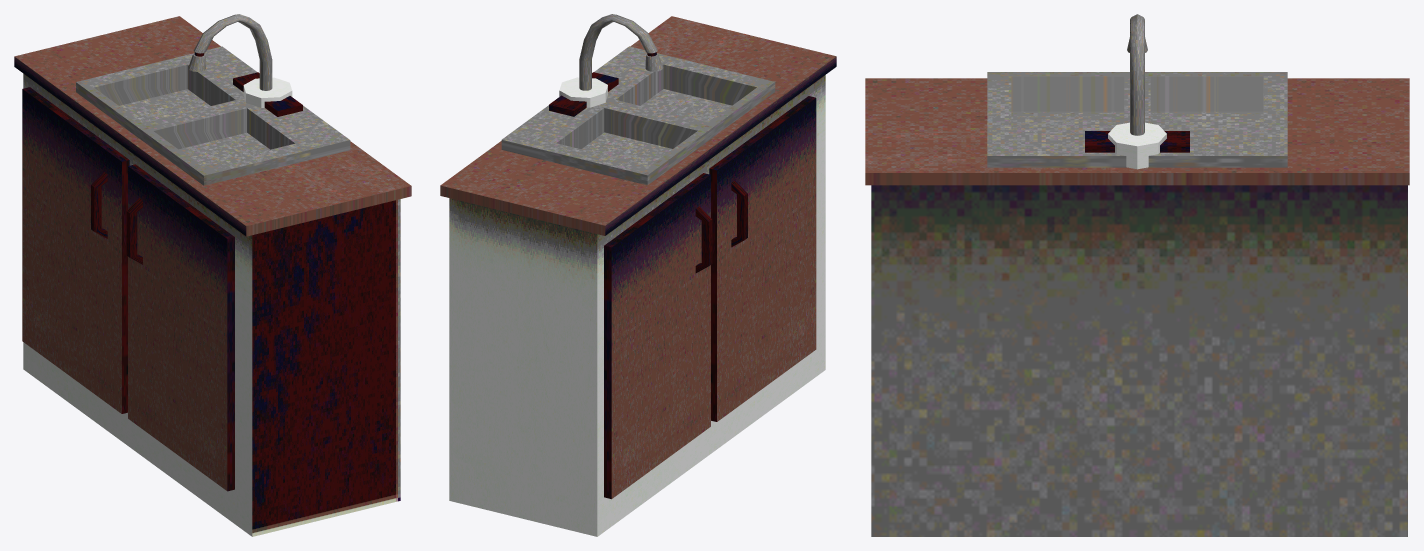
Rendered from LPSinkCabinet.obj.
3 views of the same model, side by side, from view 1: azimuth 30°, elevation 25°; view 2: azimuth 150°, elevation 25°; view 3: azimuth 270°, elevation 25° (orthographic). The views are drawn at different scales.
Visible parts, largest first — view 1: Cube.030; view 2: Cube.030; view 3: Cube.030.
Boxes of the visible parts, box(x1,y1,x2,y2) form: Cube.030: box(14, 14, 411, 536); Cube.030: box(440, 14, 836, 536); Cube.030: box(865, 14, 1409, 536).
Size of the model in its own units: 1.32 by 2.92 by 2.96.
